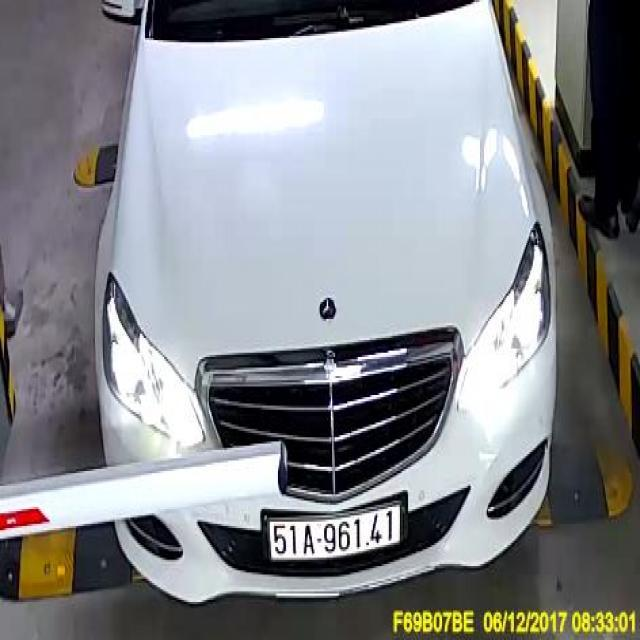car: (99, 0, 563, 605)
plate: (258, 507, 407, 566)
